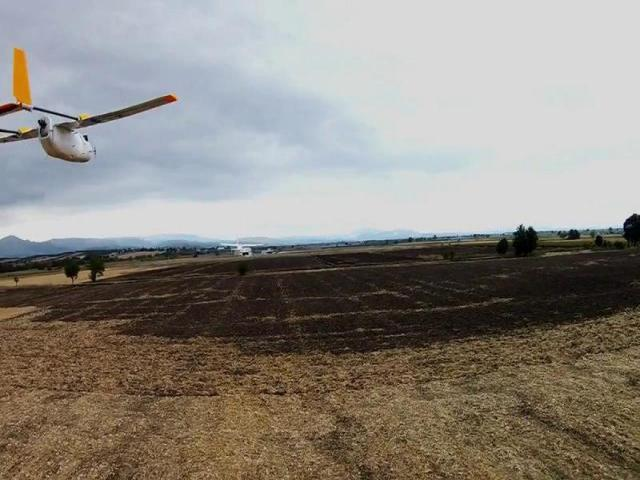hedef: (0, 44, 186, 170)
